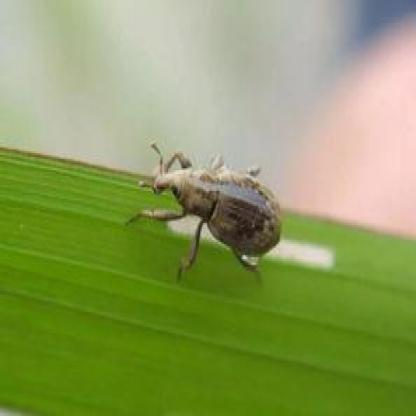rice-bug: (144, 144, 288, 276)
